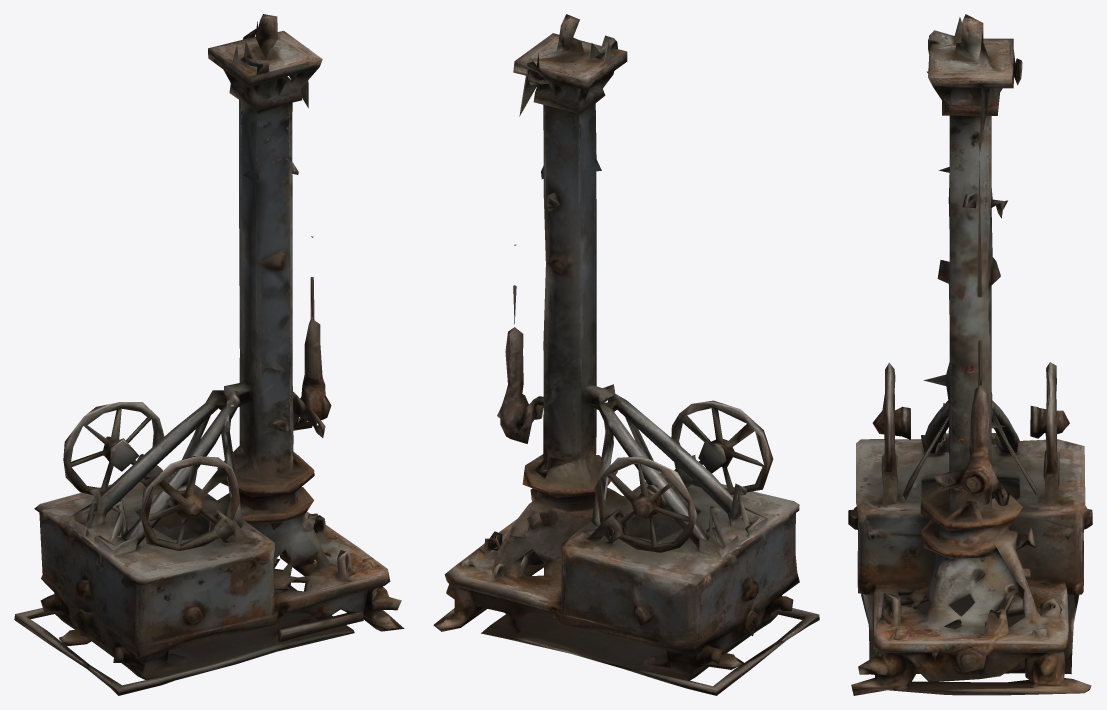
The model's file is rd_jack.glb.
The picture shows the model from 3 angles, left to right: view 1: azimuth 30°, elevation 25°; view 2: azimuth 150°, elevation 25°; view 3: azimuth 270°, elevation 25°; orthographic projection. The views are drawn at different scales.
Parts seen in each view (by area): view 1: tripo_node_0692bf72-5e7c-4b81-ab17-8225705a66b0; view 2: tripo_node_0692bf72-5e7c-4b81-ab17-8225705a66b0; view 3: tripo_node_0692bf72-5e7c-4b81-ab17-8225705a66b0.
Part boxes in pixels (x1,y1,x2,y2): tripo_node_0692bf72-5e7c-4b81-ab17-8225705a66b0: (14,14,404,695); tripo_node_0692bf72-5e7c-4b81-ab17-8225705a66b0: (433,14,819,695); tripo_node_0692bf72-5e7c-4b81-ab17-8225705a66b0: (848,14,1092,695).
Size of the model in its own units: 0.5092 by 1 by 0.3489.
Materials: 1 (1 with a texture image).
